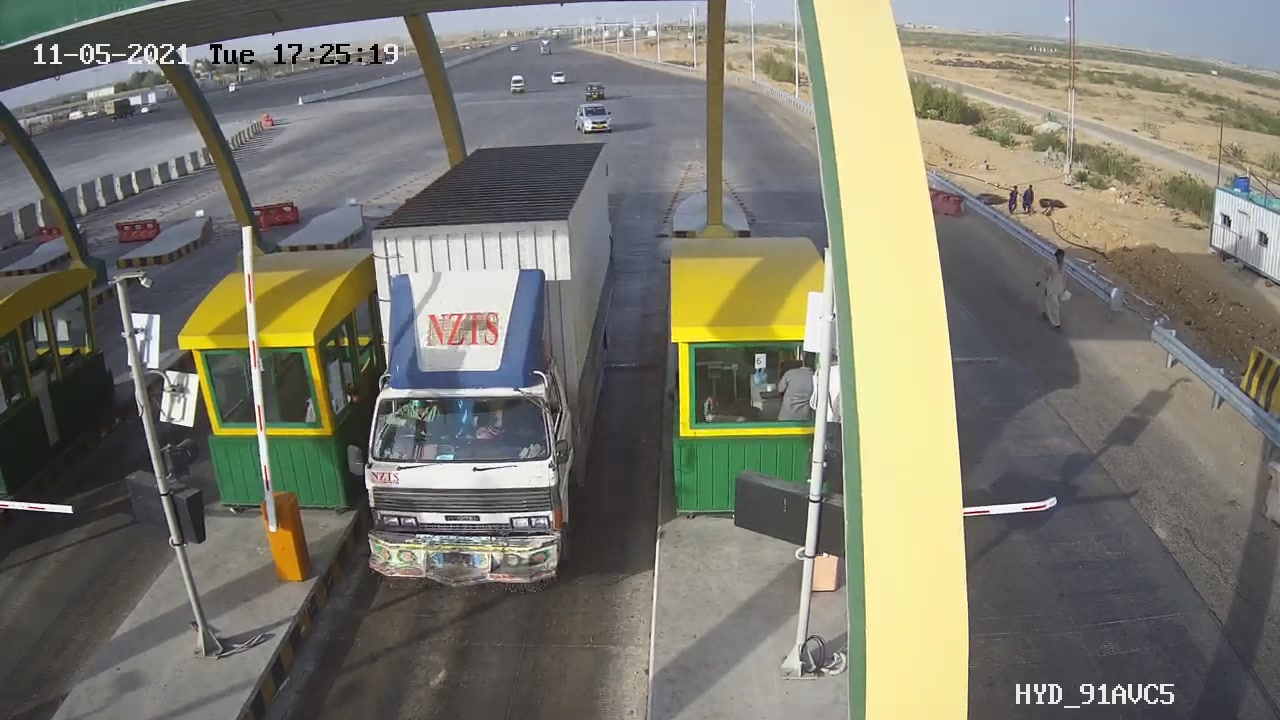F5: (331, 130, 642, 608)
